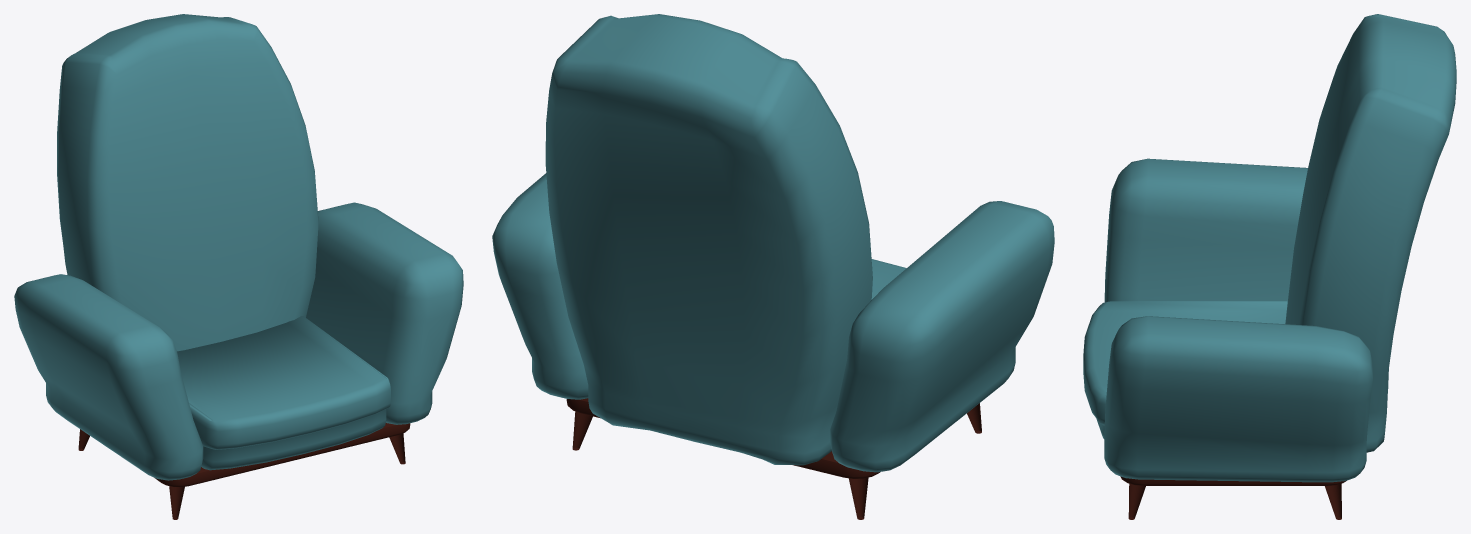
Rendered from Kreslo.fbx.
3 renders of one model, left to right at view 1: azimuth 30°, elevation 25°; view 2: azimuth 150°, elevation 25°; view 3: azimuth 270°, elevation 25°, orthographic. The views are drawn at different scales.
Visible parts, largest first — view 1: Cube.001, Cube.002, Cube.003, Plane, Plane.001; view 2: Cube.001, Cube.002, Plane.001, Plane, Cube.003; view 3: Cube.002, Cube.001, Cube.003, Plane, Plane.001.
Boxes of the visible parts, <box> form: Cube.001: <box>57,14,318,351</box>; Cube.002: <box>14,202,463,480</box>; Cube.003: <box>177,316,390,470</box>; Plane: <box>155,423,410,487</box>; Plane.001: <box>78,429,405,519</box>; Cube.001: <box>545,14,872,465</box>; Cube.002: <box>492,173,1054,472</box>; Plane.001: <box>572,403,981,519</box>; Plane: <box>566,398,880,478</box>; Cube.003: <box>871,259,906,299</box>; Cube.002: <box>1104,158,1372,482</box>; Cube.001: <box>1285,14,1456,452</box>; Cube.003: <box>1083,301,1287,438</box>; Plane: <box>1120,476,1346,485</box>; Plane.001: <box>1128,483,1341,519</box>.
Bounding box in the file's own units: 0.6833 × 0.7084 × 0.5693.
5 materials, 5 textured.
